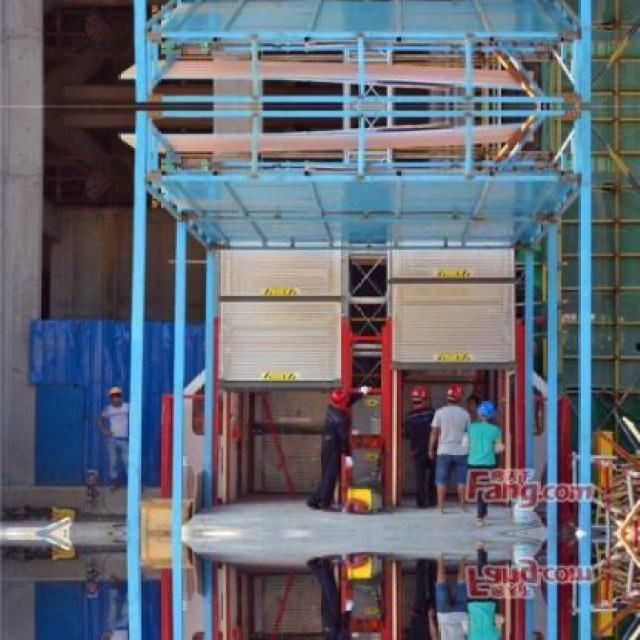helmet: (322, 384, 349, 413), (406, 382, 432, 412), (443, 383, 468, 407), (474, 398, 497, 424), (106, 386, 128, 407)
